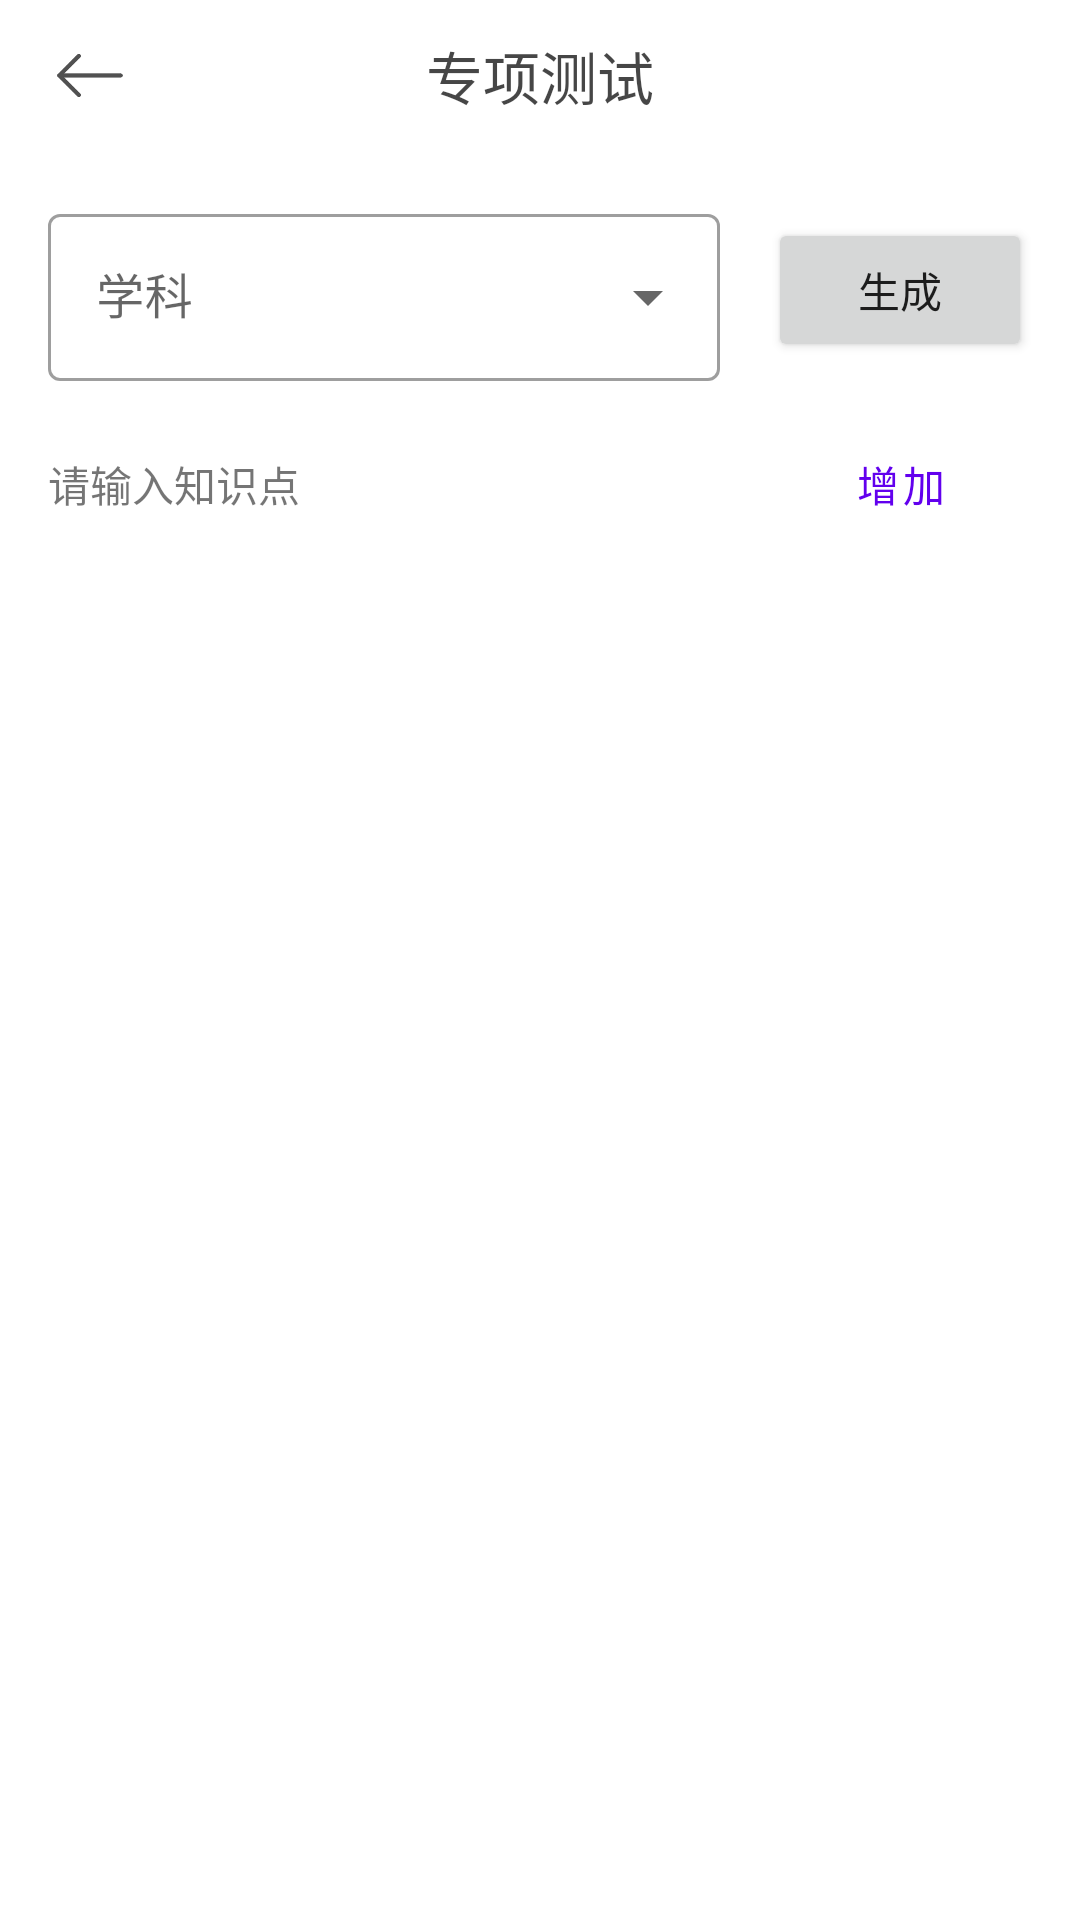

Icon click points for this 1080w x 1920h phone screenshot, format (x=x, y=y):
backward arrow: (x=90, y=75)
